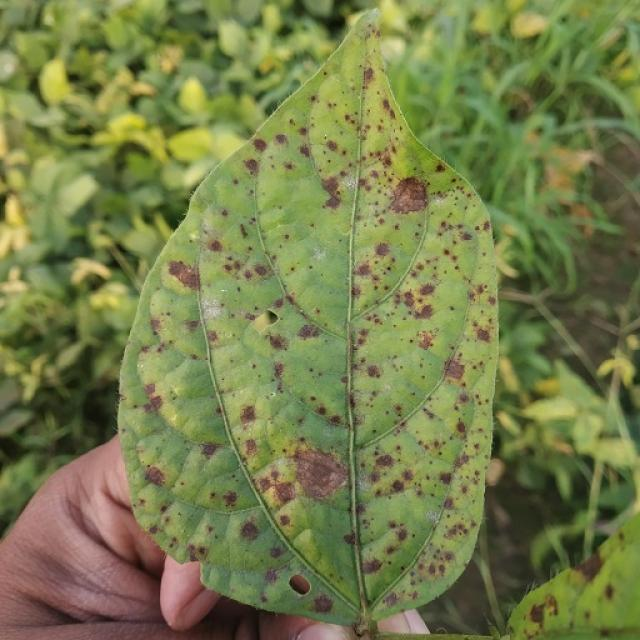Anthracnose: (286, 450, 357, 512), (287, 448, 350, 501), (255, 464, 299, 506), (388, 176, 427, 214), (166, 259, 199, 290), (574, 550, 604, 583), (349, 612, 378, 640), (319, 175, 344, 207), (537, 594, 559, 624), (242, 262, 271, 282), (287, 574, 312, 596), (443, 357, 465, 381), (144, 465, 166, 486), (528, 601, 547, 624), (296, 323, 320, 340), (239, 520, 259, 540), (262, 307, 283, 326), (416, 331, 435, 351), (312, 595, 333, 613), (198, 442, 220, 458), (267, 333, 287, 350), (361, 558, 382, 574), (415, 303, 434, 320), (146, 393, 163, 412), (374, 453, 394, 469), (240, 405, 256, 424), (474, 326, 491, 343), (252, 137, 268, 153), (264, 568, 280, 584), (375, 242, 391, 257), (244, 157, 259, 173), (383, 592, 399, 607), (366, 364, 381, 378), (208, 239, 223, 253), (269, 545, 284, 559), (604, 583, 615, 601), (342, 532, 357, 545), (363, 67, 375, 83), (438, 472, 452, 485), (274, 133, 288, 146), (420, 284, 435, 296), (391, 479, 404, 492), (239, 224, 248, 238)
Blackgram: (116, 12, 501, 639)
